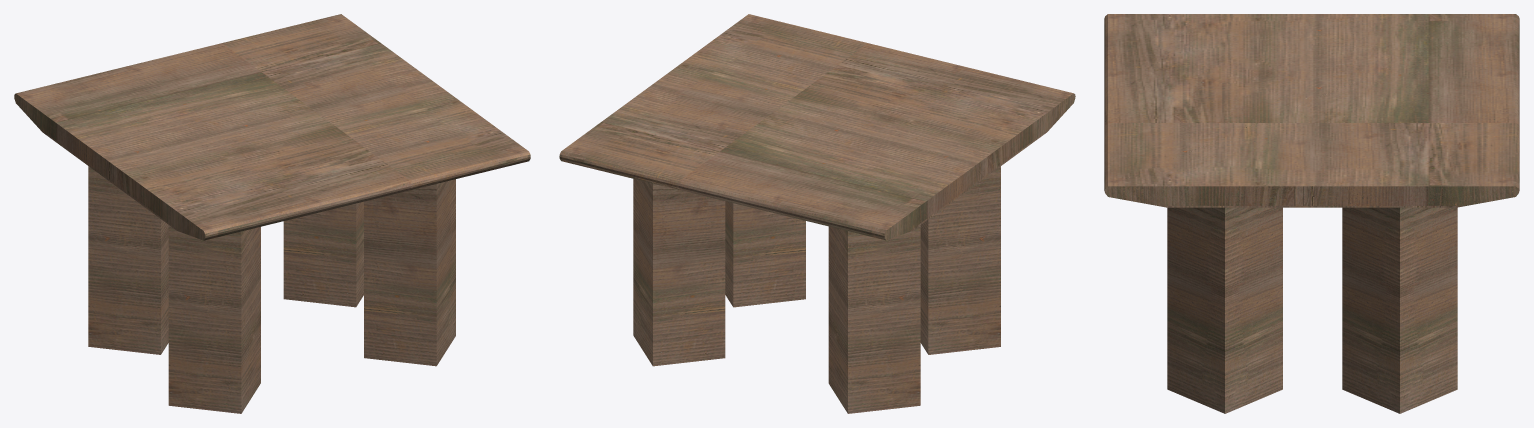
File: Table4.fbx
3 views of the same model, side by side, from view 1: azimuth 30°, elevation 25°; view 2: azimuth 150°, elevation 25°; view 3: azimuth 270°, elevation 25° (orthographic). The views are drawn at different scales.
Parts seen in each view (by area): view 1: Empty_Mesh; view 2: Empty_Mesh; view 3: Empty_Mesh.
Boxes of the visible parts, box(x1,y1,x2,y2) form: Empty_Mesh: box(14, 14, 530, 413); Empty_Mesh: box(559, 14, 1075, 413); Empty_Mesh: box(1104, 14, 1519, 413).
Bounding box in the file's own units: 105 × 67.5 × 107.
